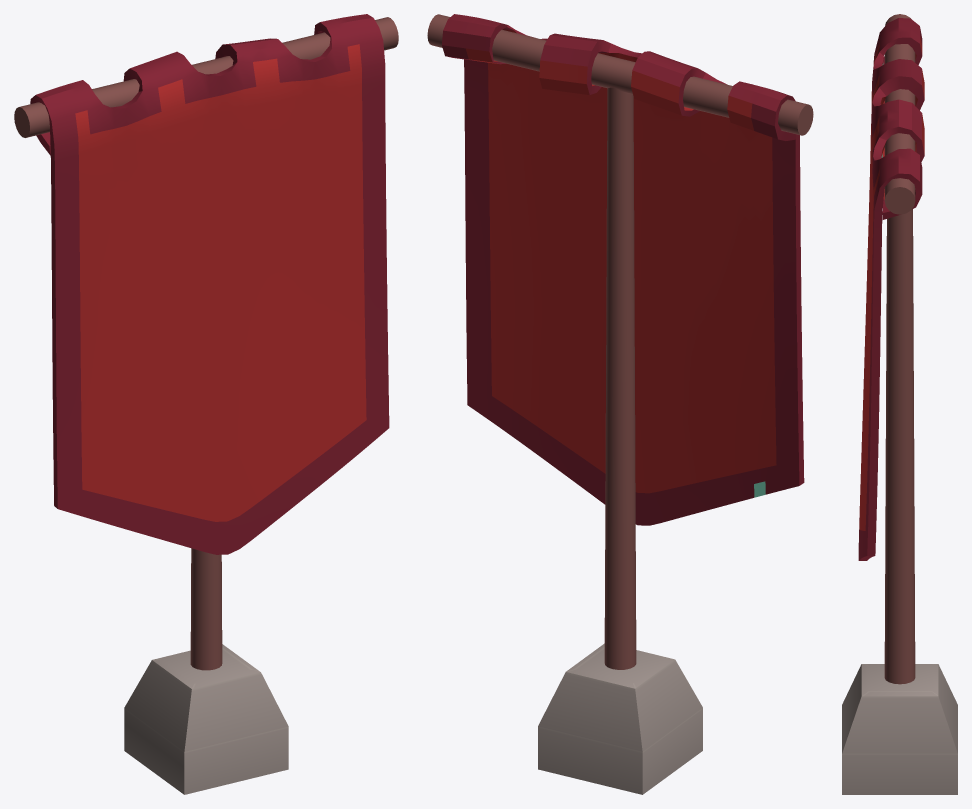
Rendered from Bandeira2.fbx.
The picture shows the model from 3 angles, left to right: view 1: azimuth 30°, elevation 25°; view 2: azimuth 150°, elevation 25°; view 3: azimuth 270°, elevation 25°; orthographic projection. The views are drawn at different scales.
Parts seen in each view (by area): view 1: Bandeira1.001; view 2: Bandeira1.001; view 3: Bandeira1.001.
Part boxes in pixels (<box>): Bandeira1.001: <box>14,14,398,794</box>; Bandeira1.001: <box>427,14,813,794</box>; Bandeira1.001: <box>842,14,957,794</box>.
Size of the model in its own units: 1 by 1.84 by 0.283.
